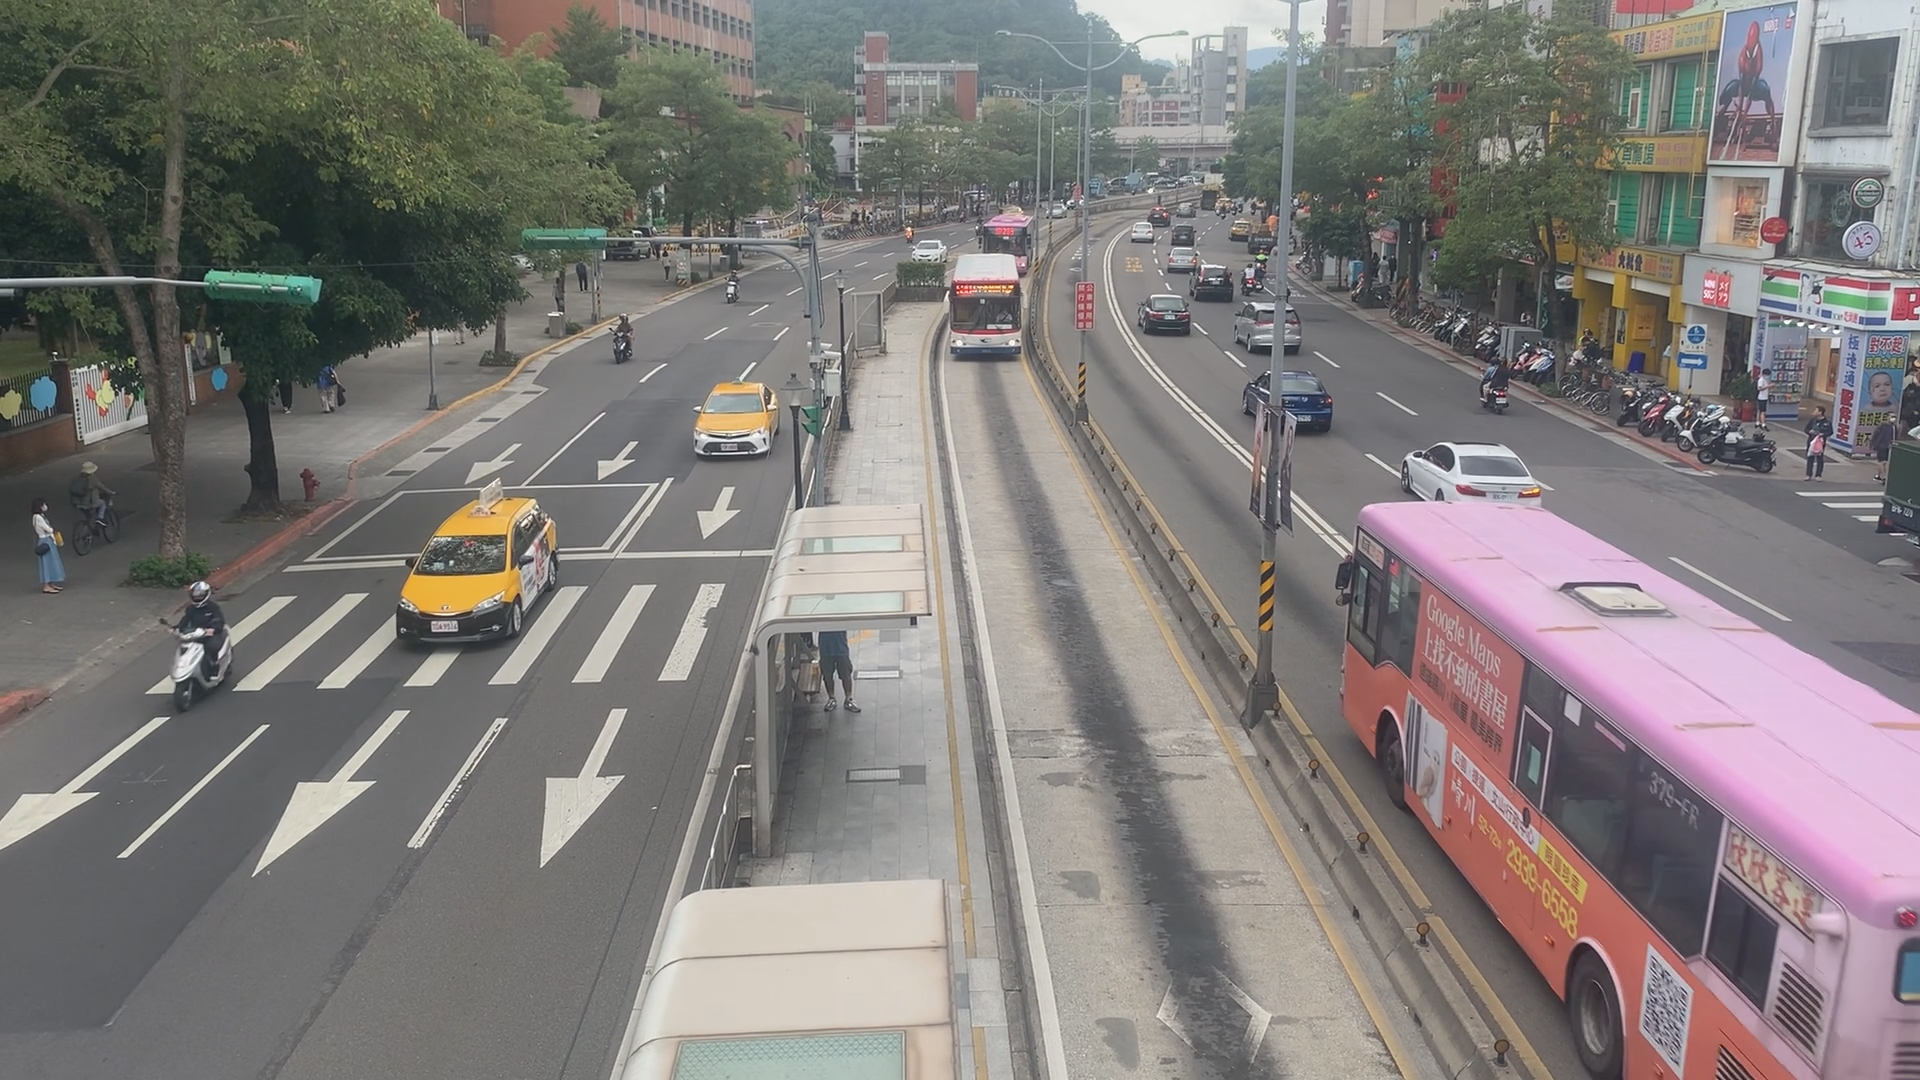Bus: (1345, 495, 1920, 1076), (952, 251, 1025, 355), (977, 206, 1043, 281)
Business Passenger Car: (394, 483, 558, 663), (691, 376, 782, 462)
Motorcycle: (169, 580, 232, 702), (607, 307, 640, 360), (723, 266, 749, 305)
Private Passenger Car: (1385, 434, 1563, 522), (1242, 373, 1327, 431), (1234, 301, 1303, 351), (1134, 294, 1193, 334), (1192, 262, 1236, 303), (907, 237, 945, 265), (1163, 247, 1197, 276), (1127, 214, 1156, 245), (1172, 222, 1193, 245)
